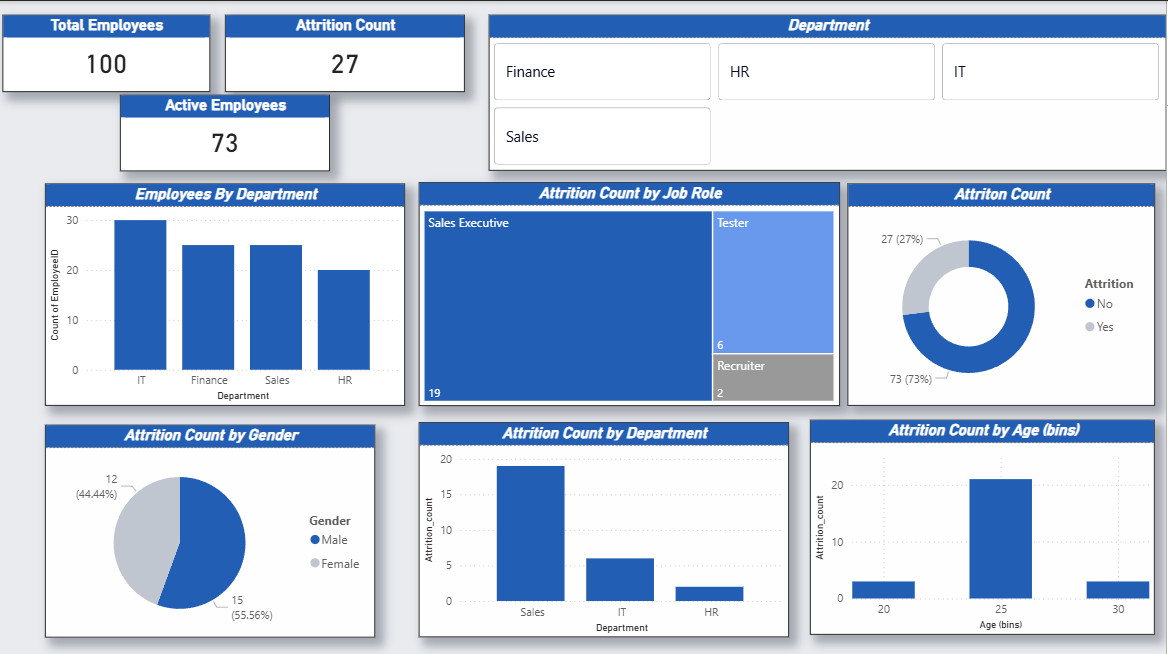

Layout of this report page (visuals, bound fields, positions):
{"tool":"powerbi","page":{"name":"Page 1","canvas":[1280,720],"ordinal":0},"visuals":[{"type":"card","title":"Total Employees","fields":{"Values":["Sheet1.Total_employees"]},"box":[12.3,30.2,227.8,85.1],"z":0},{"type":"card","title":"Attrition Count","fields":{"Values":["Sheet1.Attrition_count"]},"box":[249.7,30.2,209.9,85.1],"z":1000},{"type":"advancedSlicerVisual","fields":{"Values":["Sheet1.Department"]},"box":[536.5,15.1,743.7,171.5],"z":2000},{"type":"card","title":"Active Employees","fields":{"Values":["Sheet1.Active_employees"]},"box":[124.9,115.3,230.5,83.7],"z":3000},{"type":"clusteredColumnChart","fields":{"Category":["Sheet1.Department"],"Y":["Sheet1.Attrition_count"]},"box":[459.7,462.4,406.2,236],"z":4000},{"type":"pieChart","fields":{"Y":["Sheet1.Attrition_count"],"Category":["Sheet1.Gender"]},"box":[34.3,462.4,362.3,233.3],"z":5000},{"type":"treemap","fields":{"Group":["Sheet1.JobRole"],"Values":["Sheet1.Attrition_count"]},"box":[459.7,199,466.6,245.6],"z":5001},{"type":"donutChart","fields":{"Category":["Sheet1.Attrition"],"Y":["CountNonNull(Sheet1.EmployeeID)"]},"box":[942.7,200.3,337.6,244.3],"z":5002},{"type":"clusteredColumnChart","fields":{"Category":["Sheet1.Department"],"Y":["CountNonNull(Sheet1.EmployeeID)"]},"box":[49.4,200.3,395.2,244.3],"z":5003},{"type":"clusteredColumnChart","fields":{"Category":["Sheet1.Age (bins)"],"Y":["Sheet1.Attrition_count"]},"box":[889.2,459.7,378.7,236],"z":5004}]}

Visuals, with their boxes in screenshot pixels (x1, y1, x2, y2), scaled from the page's 1280x720 canvas onto the 1168x654 screenshot:
"Total Employees" card: x1=11 y1=27 x2=219 y2=105
"Attrition Count" card: x1=228 y1=27 x2=419 y2=105
advancedSlicerVisual - Sheet1.Department: x1=490 y1=14 x2=1167 y2=169
"Active Employees" card: x1=114 y1=105 x2=324 y2=181
clusteredColumnChart - Sheet1.Department x Sheet1.Attrition_count: x1=419 y1=420 x2=790 y2=634
pieChart - Sheet1.Attrition_count x Sheet1.Gender: x1=31 y1=420 x2=362 y2=632
treemap - Sheet1.JobRole x Sheet1.Attrition_count: x1=419 y1=181 x2=845 y2=404
donutChart - Sheet1.Attrition x CountNonNull(Sheet1.EmployeeID): x1=860 y1=182 x2=1167 y2=404
clusteredColumnChart - Sheet1.Department x CountNonNull(Sheet1.EmployeeID): x1=45 y1=182 x2=406 y2=404
clusteredColumnChart - Sheet1.Age (bins) x Sheet1.Attrition_count: x1=811 y1=418 x2=1157 y2=632
